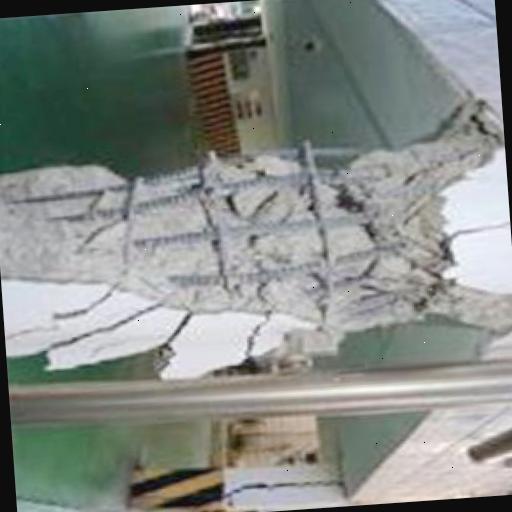spalling: (0, 152, 505, 331)
